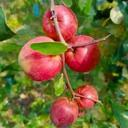apple: (49, 97, 80, 126)
